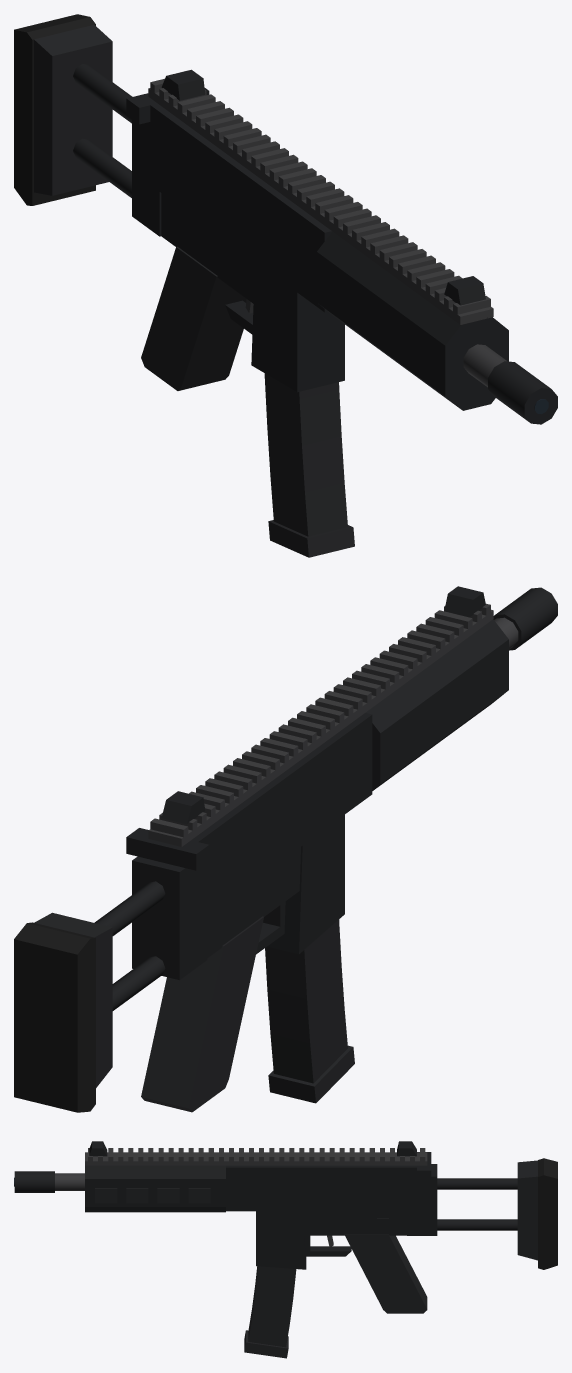
The model's file is smg.glb.
3 views of the same model, one above another, from view 1: azimuth 30°, elevation 25°; view 2: azimuth 150°, elevation 25°; view 3: azimuth 270°, elevation 25° (orthographic). The views are drawn at different scales.
Parts seen in each view (by area): view 1: smg; view 2: smg; view 3: smg.
Boxes of the visible parts, box(x1,y1,x2,y2) form: smg: box(14, 14, 557, 557); smg: box(14, 586, 557, 1112); smg: box(14, 1141, 557, 1358).
Size of the model in its own units: 0.044 by 0.2275 by 0.5406.
1 material, 1 textured.
